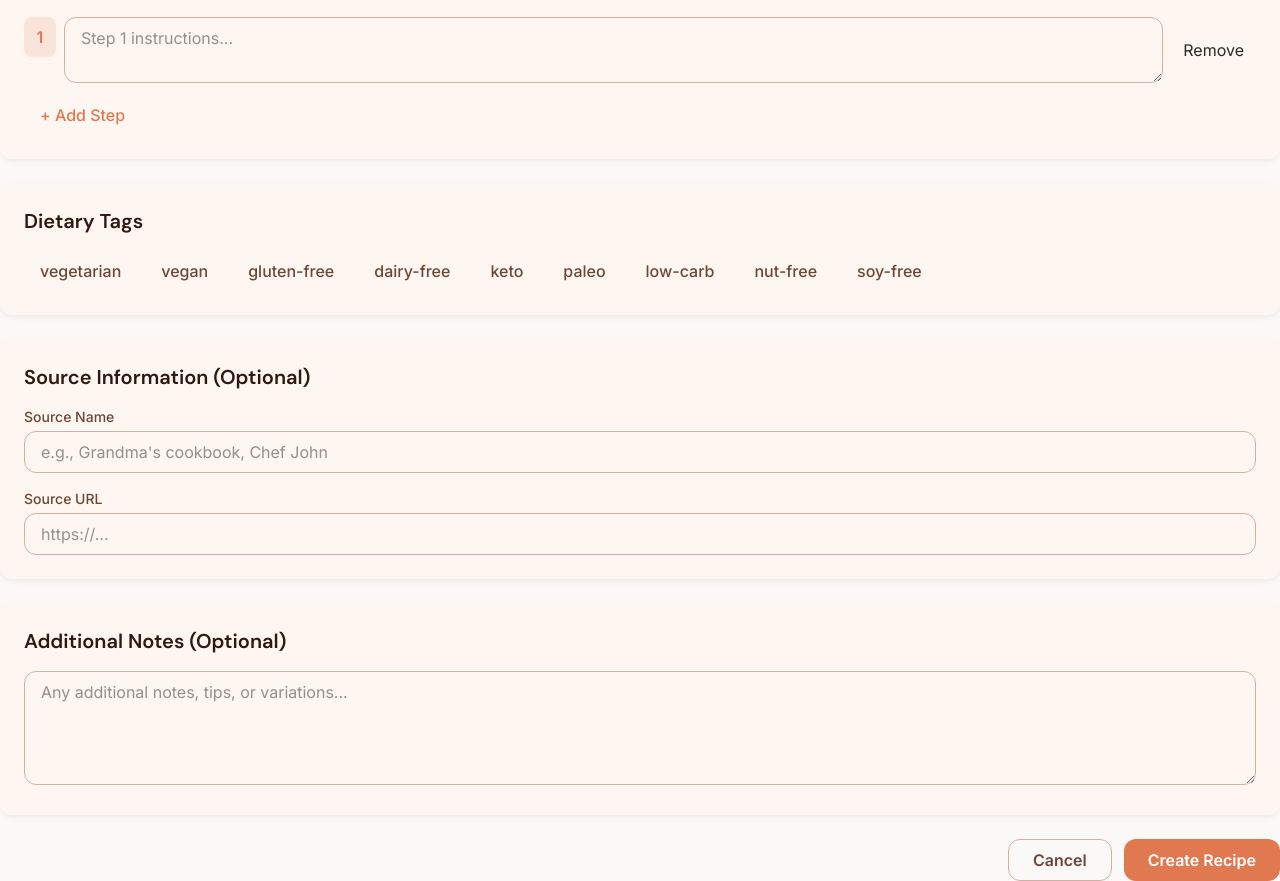
it: RecipeForm › Form Submission › should show error summary near submit button when validation fails
(page scrolled)
Try to submit without filling required fields
Click the button "Create Recipe".
click(1202, 860)  # box left=1124, top=839, right=1279, bottom=880
(page scrolled)
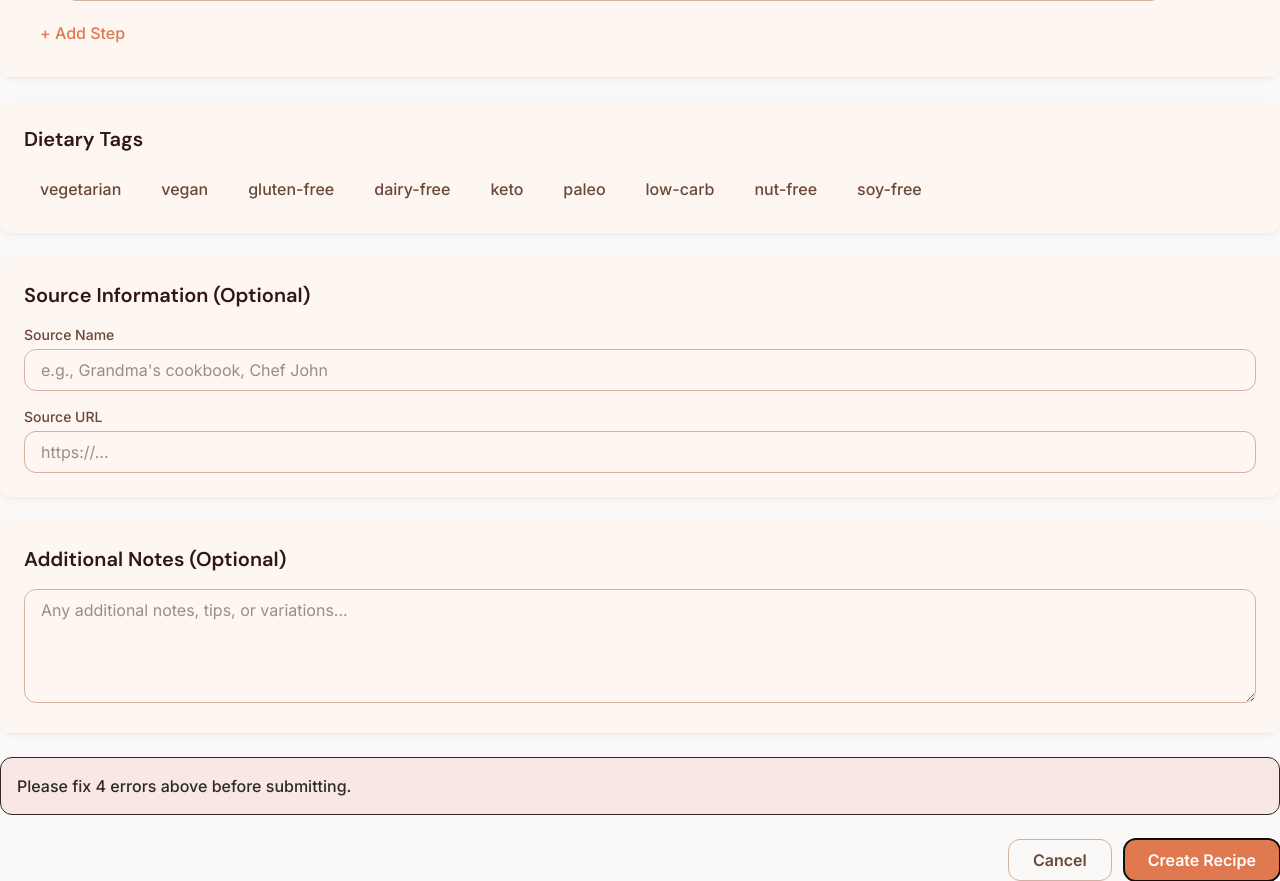
Expected: the message reads "Please fix 4 errors above before submitting.", left=0, top=757, right=1279, bottom=815
